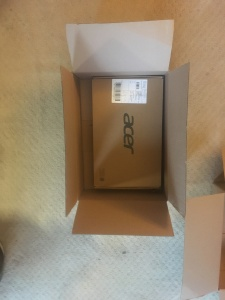innerbox: (72, 72, 168, 200)
outerbox: (59, 22, 186, 236)
product: (91, 77, 161, 189)
